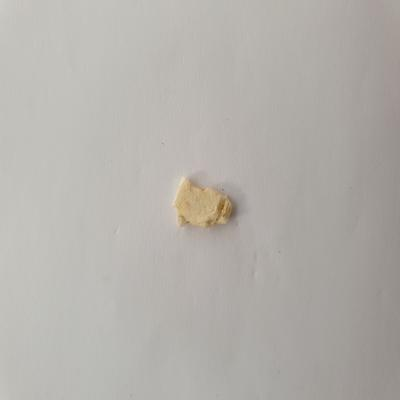plastic: (171, 173, 238, 234)
